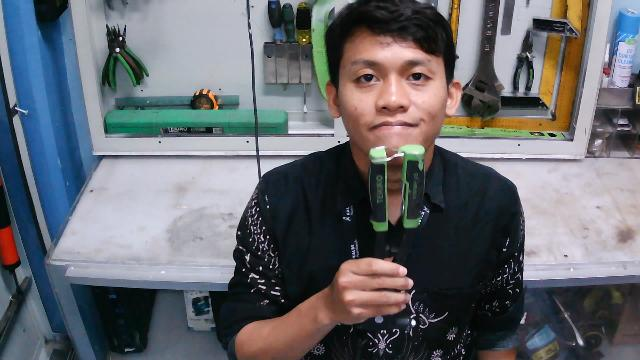tang_rivet: (361, 145, 428, 303)
